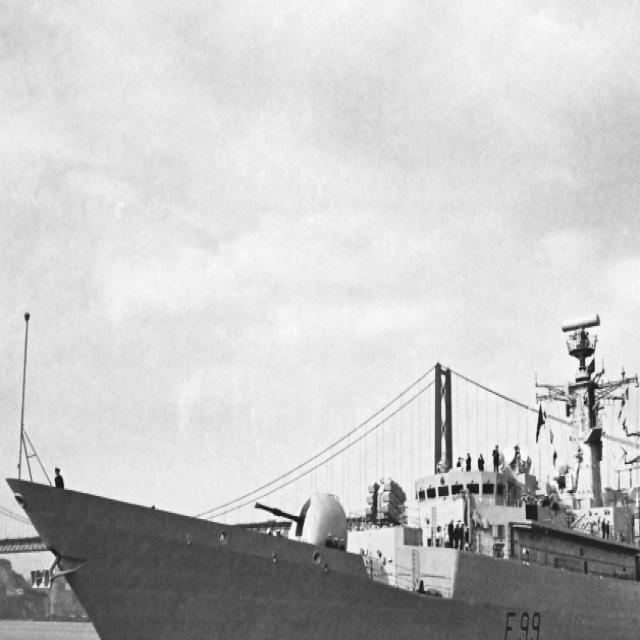Fragata: (5, 309, 640, 640)
